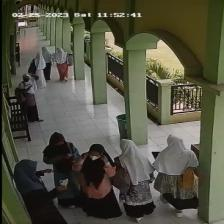HijabSyar-i: (153, 134, 200, 175), (114, 139, 152, 185), (79, 143, 115, 190), (40, 130, 75, 174), (12, 160, 50, 195), (19, 73, 38, 94), (30, 52, 47, 71), (52, 47, 68, 64), (42, 47, 54, 63)
